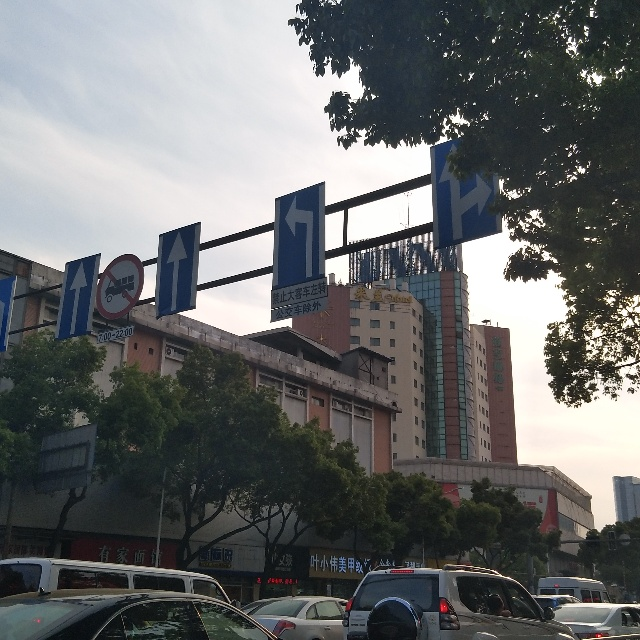left: (276, 192, 323, 283)
straight: (160, 229, 193, 316), (64, 258, 91, 339)
